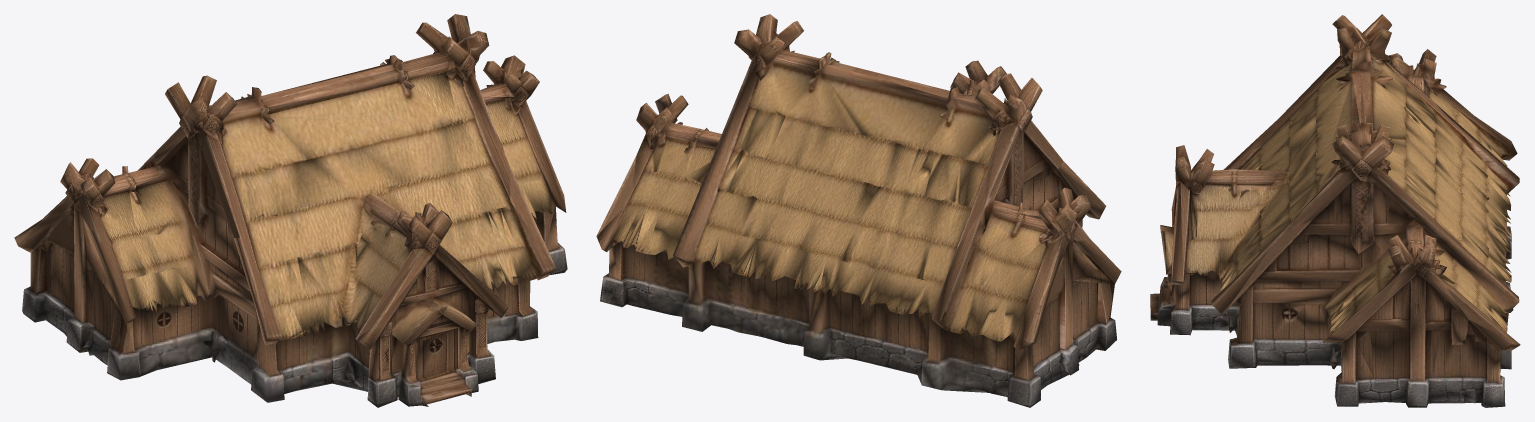
Rendered from house-greathouse.glb.
3 views of the same model, side by side, from view 1: azimuth 30°, elevation 25°; view 2: azimuth 150°, elevation 25°; view 3: azimuth 270°, elevation 25° (orthographic). The views are drawn at different scales.
Parts seen in each view (by area): view 1: Mesh_0; view 2: Mesh_0; view 3: Mesh_0.
Boxes of the visible parts, bbox=[...] form: Mesh_0: bbox=[14, 14, 567, 407]; Mesh_0: bbox=[596, 14, 1121, 407]; Mesh_0: bbox=[1150, 14, 1520, 407].
Bounding box in the file's own units: 11.11 × 6 × 8.6.
Materials: 1 (1 with a texture image).
